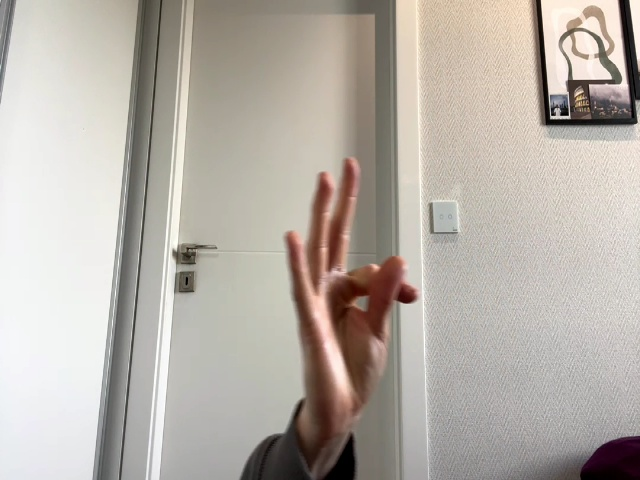T: (286, 157, 418, 411)
